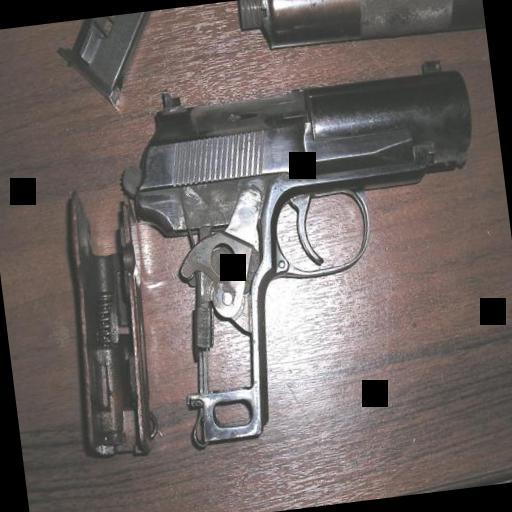Handgun: (118, 54, 508, 448)
